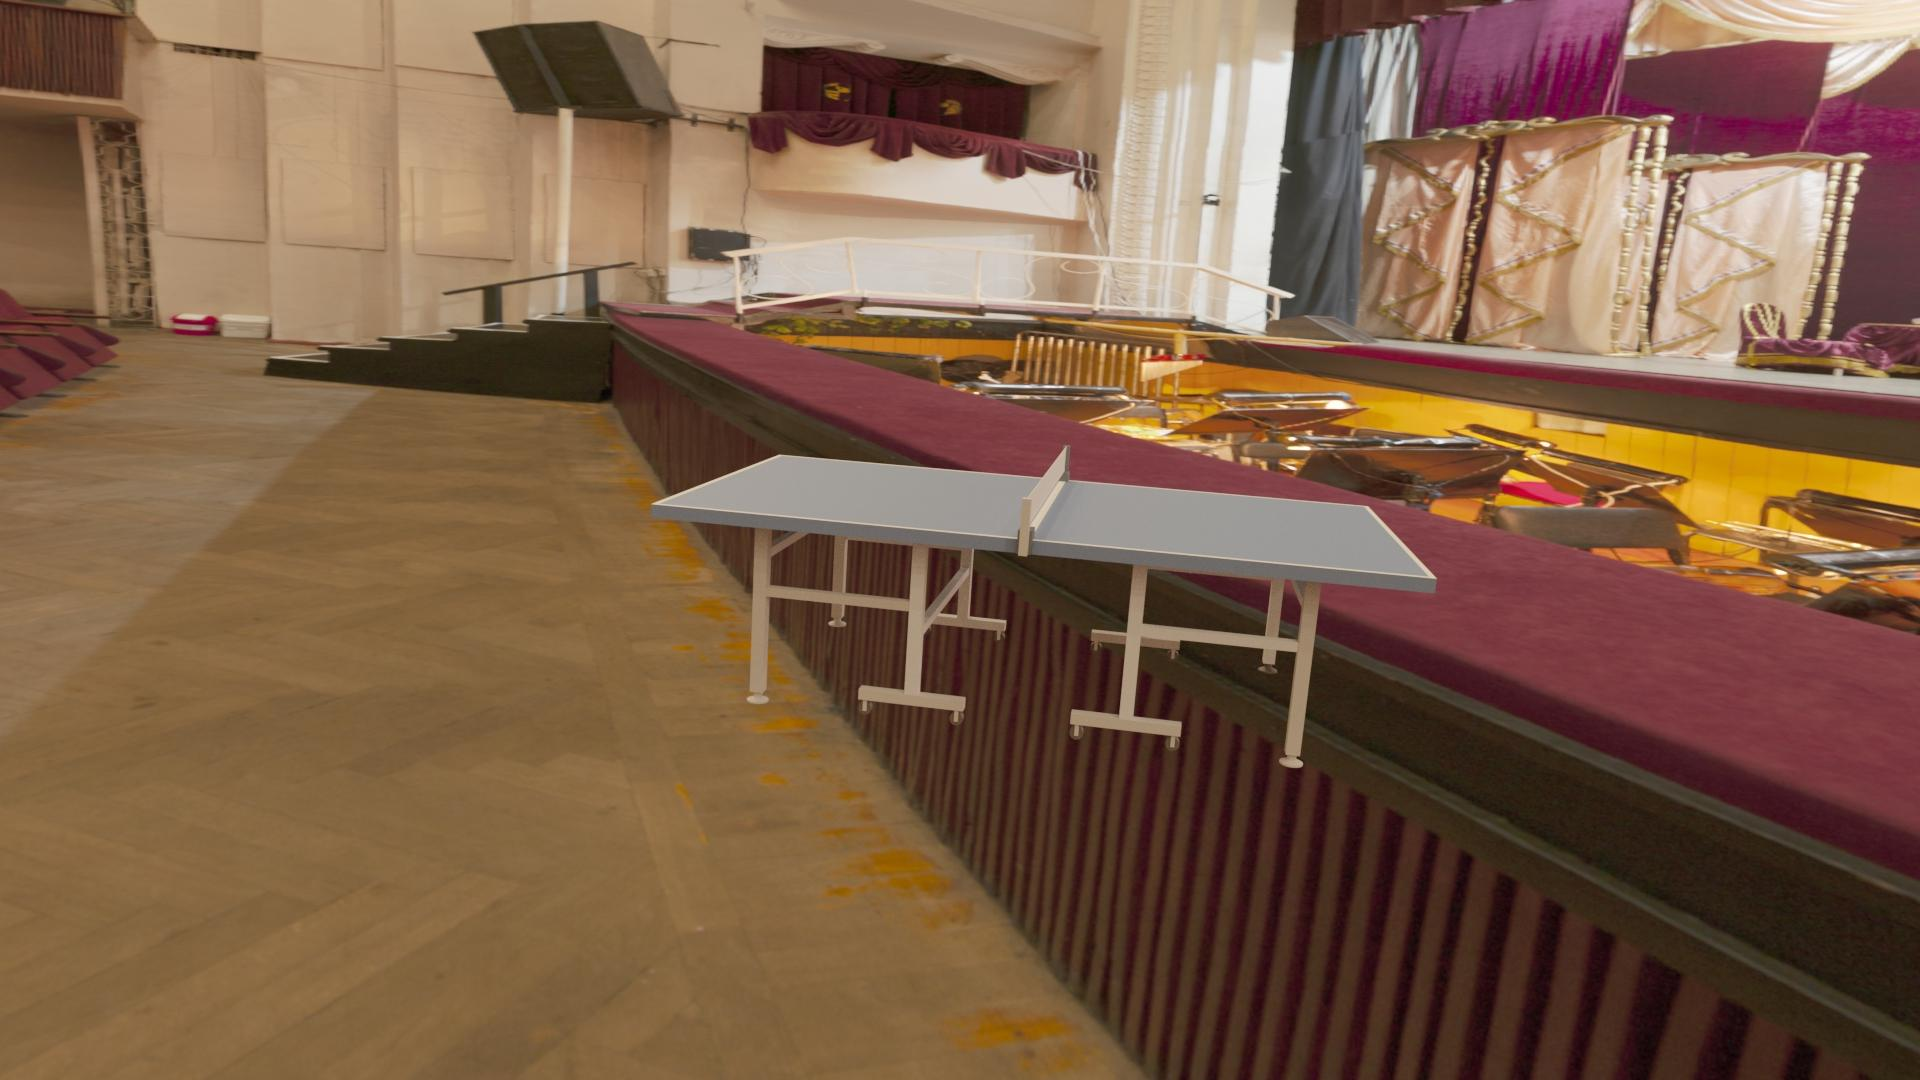table: (658, 456, 1429, 576)
